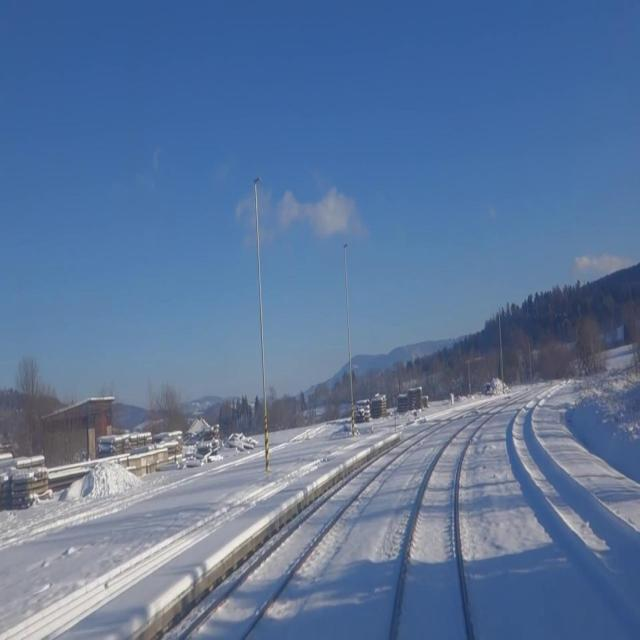rail-track: (192, 452, 395, 639), (515, 400, 640, 602), (395, 424, 477, 639)
